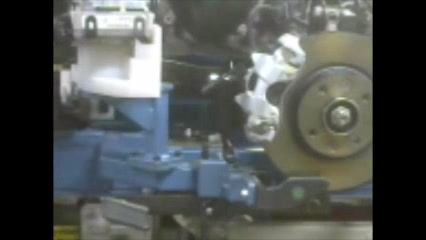DD2: (306, 31, 373, 190)
P2: (231, 30, 309, 149)
